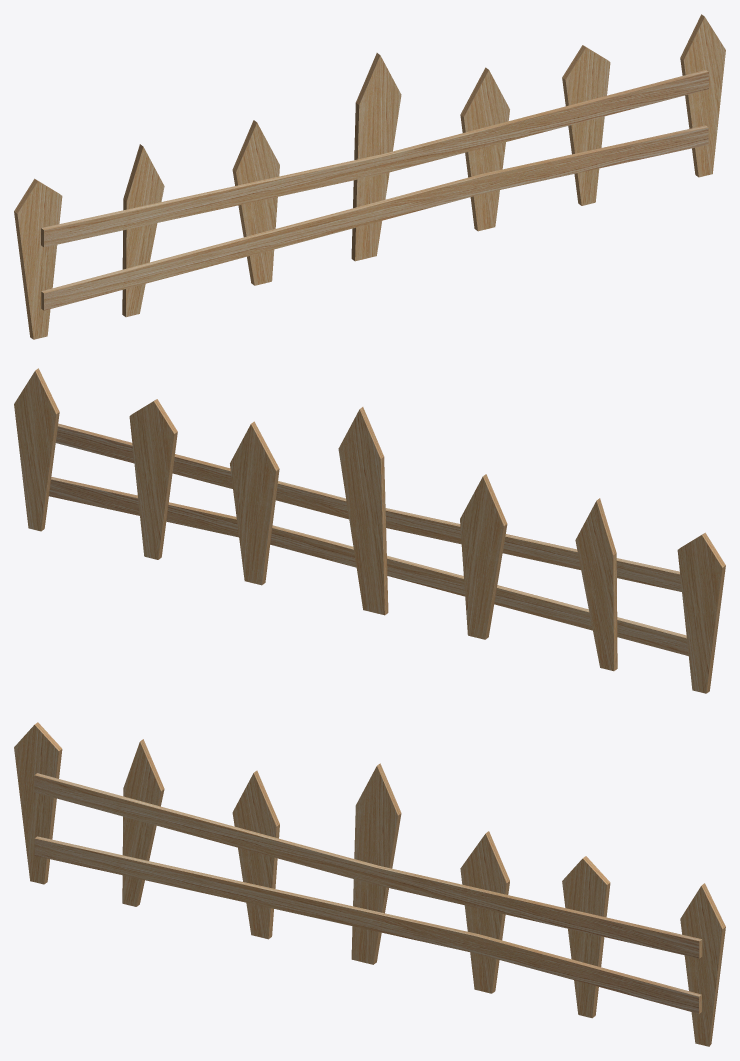
Rendered from ETC0210021.fbx.
3 renders of one model, top to bottom at view 1: azimuth 30°, elevation 25°; view 2: azimuth 150°, elevation 25°; view 3: azimuth 330°, elevation 25°, orthographic.
Visible parts, largest first — view 1: smETC0210021; view 2: smETC0210021; view 3: smETC0210021.
Part boxes in pixels (x1=…): smETC0210021: x1=14, y1=14, x2=725, y2=339; smETC0210021: x1=14, y1=368, x2=725, y2=693; smETC0210021: x1=14, y1=722, x2=725, y2=1046.
Size of the model in its own units: 621 by 168 by 9.93.
1 material, 1 textured.
